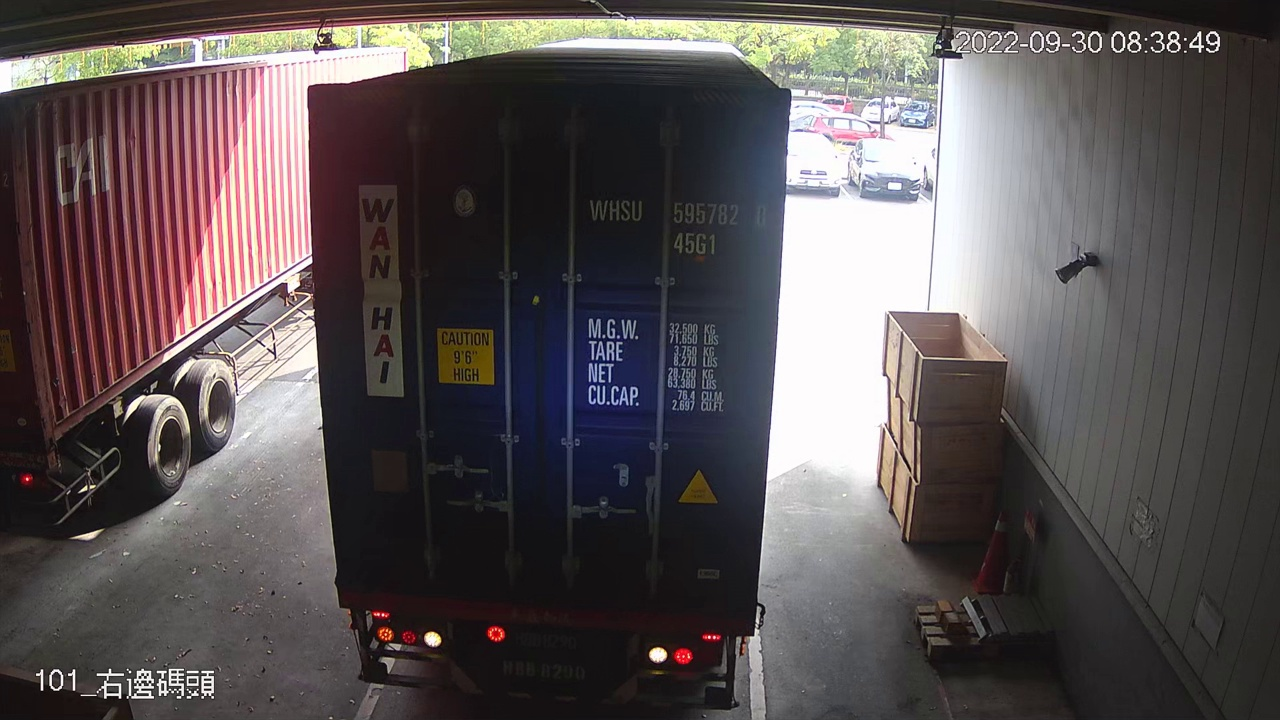container: (581, 189, 773, 264)
